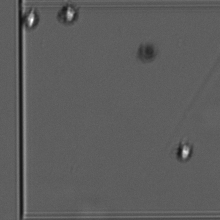Dead Cell: (137, 41, 158, 62)
Living Cell: (56, 2, 79, 25), (21, 6, 41, 32), (175, 140, 194, 163)
